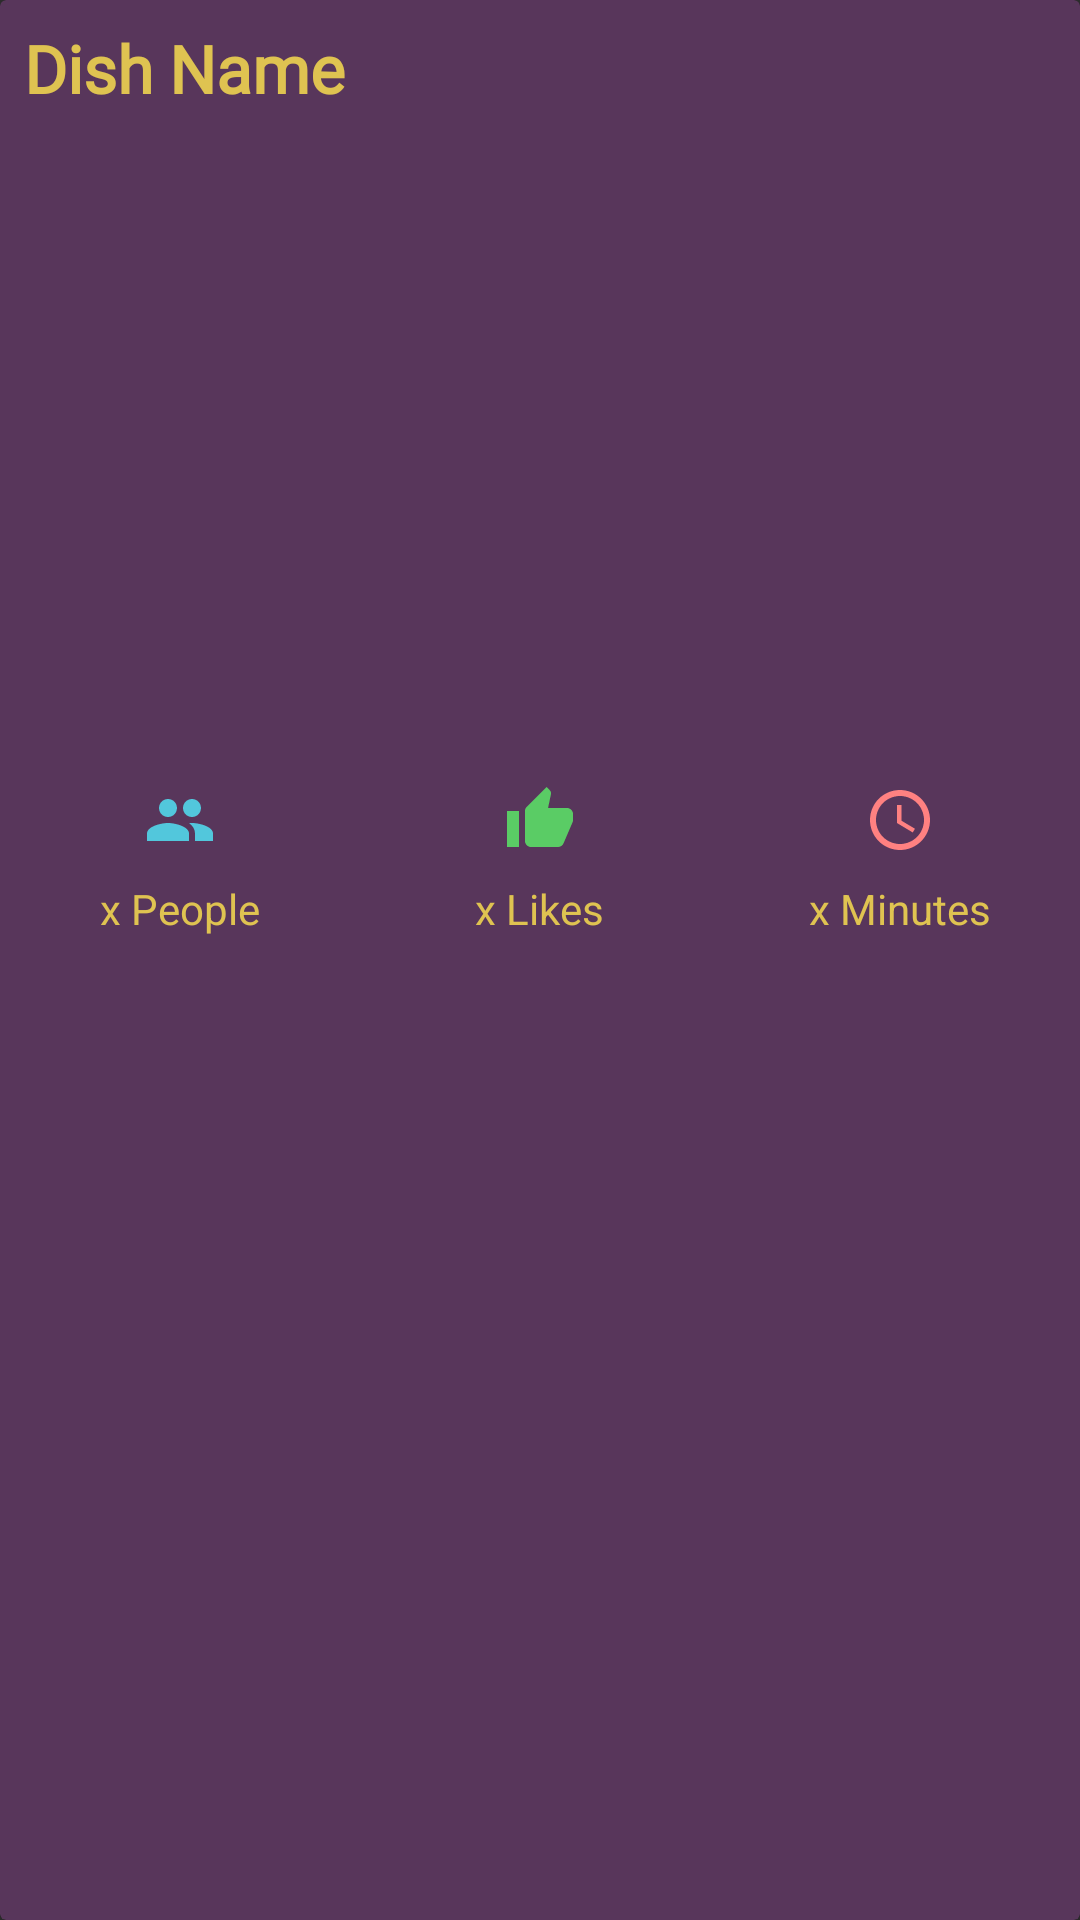

Icons on this 1080px x 1920px Android screen, each with the point to tap as (x=x, y=y):
servings: (x=180, y=820)
time: (x=900, y=820)
